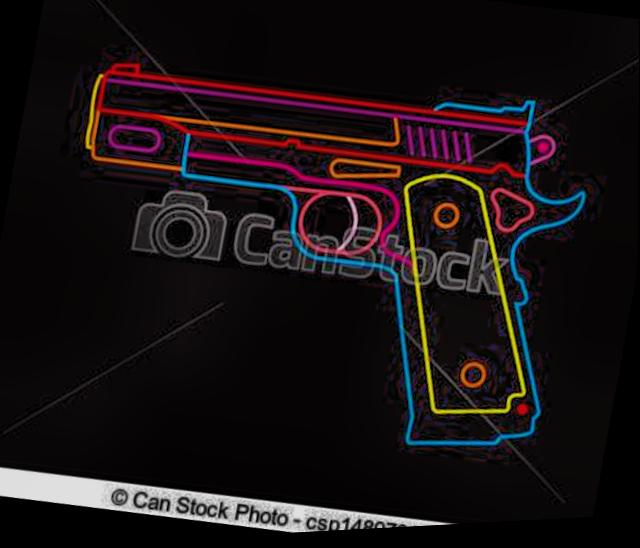pistol: (34, 25, 601, 486)
